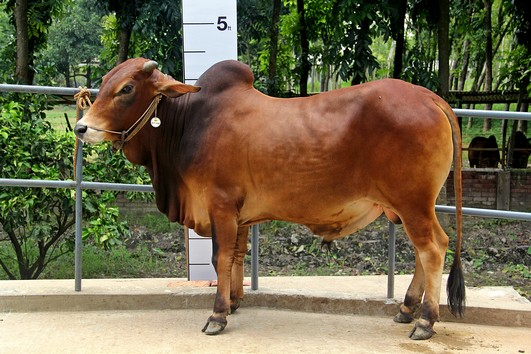cow: (69, 49, 471, 341)
